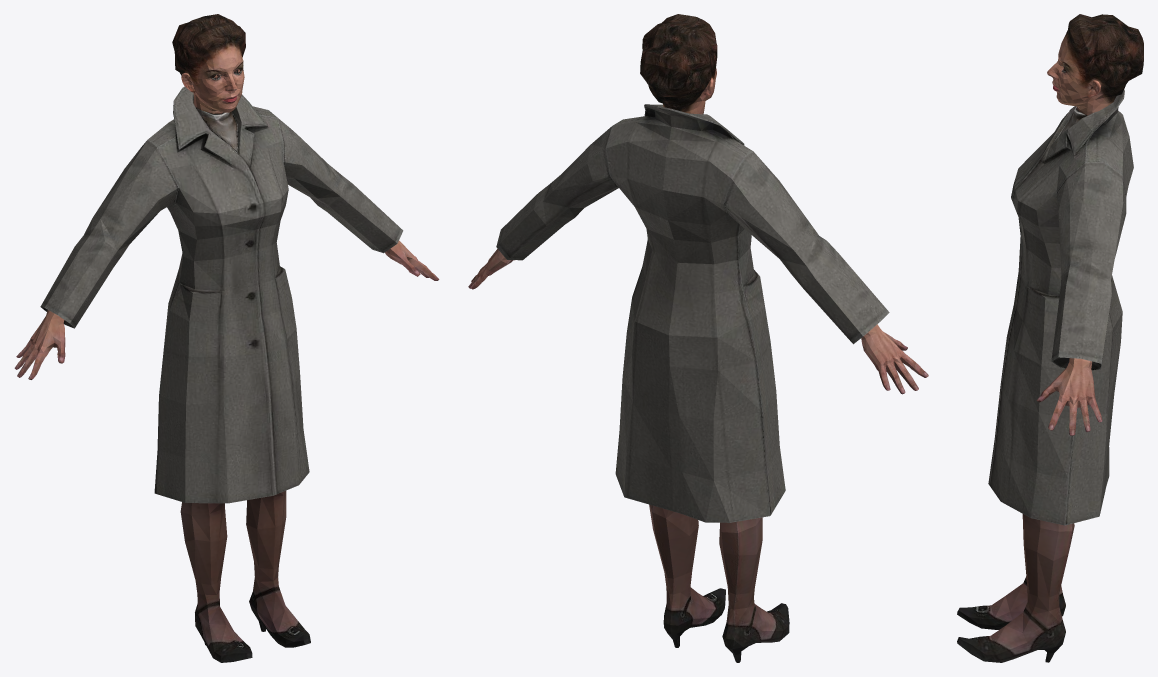
Rendered from npc_cpros1z.glb.
3 renders of one model, left to right at view 1: azimuth 30°, elevation 25°; view 2: azimuth 150°, elevation 25°; view 3: azimuth 270°, elevation 25°, orthographic. The views are drawn at different scales.
Visible parts, largest first — view 1: npc; view 2: npc; view 3: npc.
Boxes of the visible parts, x1,y1,x2,y2 form: npc: [14, 14, 439, 662]; npc: [468, 14, 928, 662]; npc: [957, 14, 1143, 662].
Bounding box in the file's own units: 0.7191 × 1 × 0.2697.
1 material, 1 textured.
